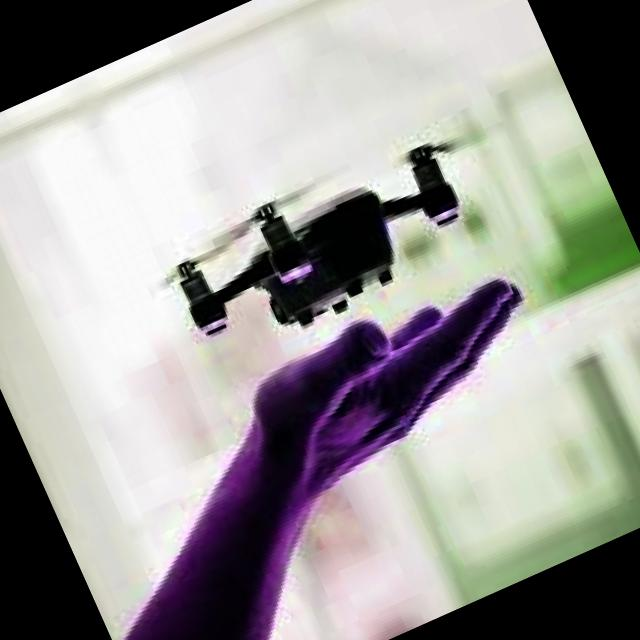drone: (126, 89, 533, 410)
